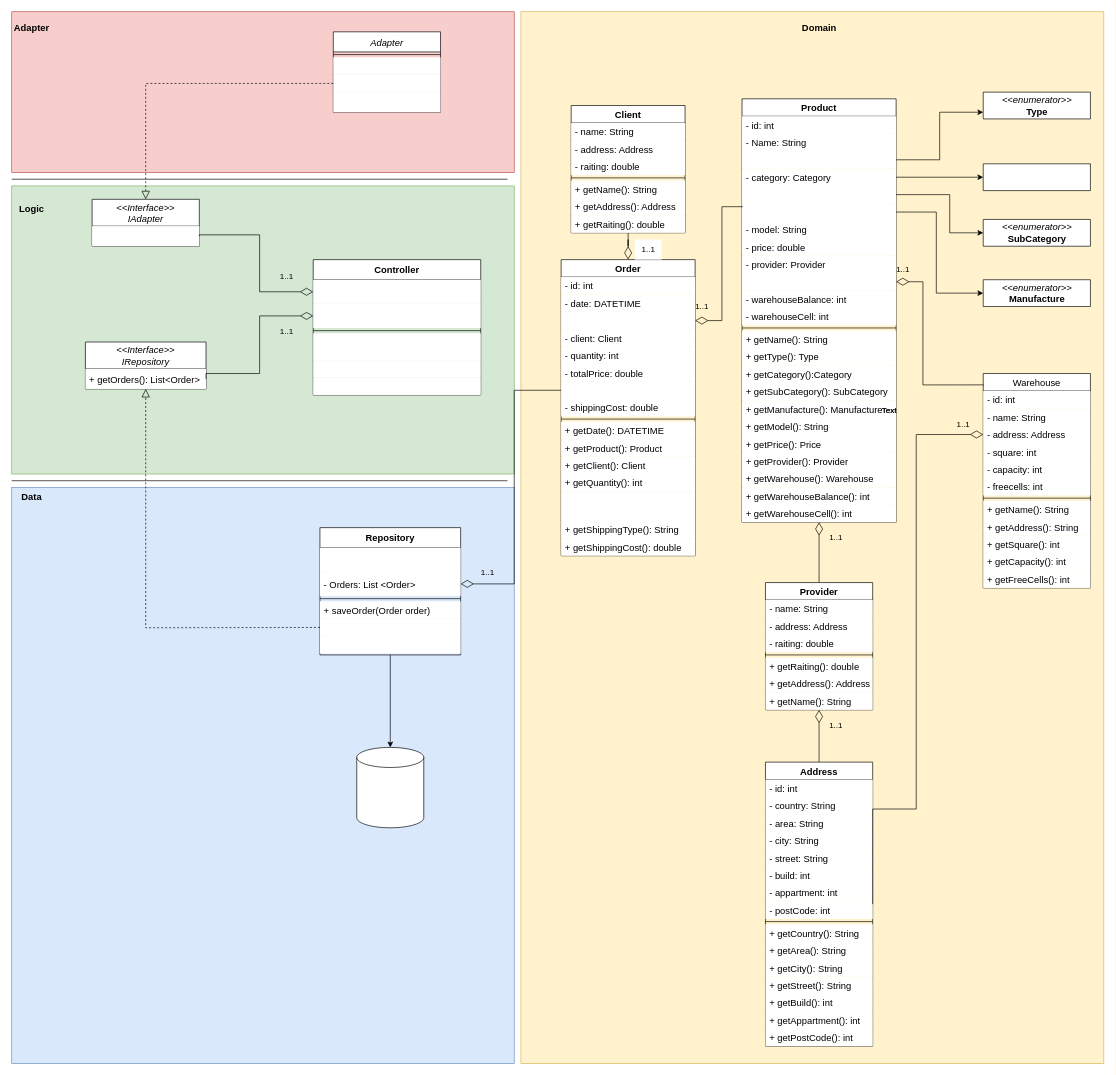
Image size: 1116x1075. Some labels were removed from this diagram. The centre of each missing label's shape, as x and y in pixels:
+ getotalPrice(Price double, Quantity int): double: the point at 628,506
+ showDataTrend(): the point at 145,236
+getDataTrend(iRepository): iAdapter: the point at 396,346
- manufacture: Manufacture: the point at 819,211
- order: Order: the point at 390,559
- product: Product: the point at 628,320
- shippingType: String: the point at 628,390
- subCategory: SubCategory: the point at 819,194
- type: Type: the point at 819,159
- warehouse: Warehouse: the point at 819,281
<<enumerator>> Category: the point at 1036,177
Adapter IAdapter: the point at 396,291
DB: the point at 390,787
Repository IRepository: the point at 396,316
